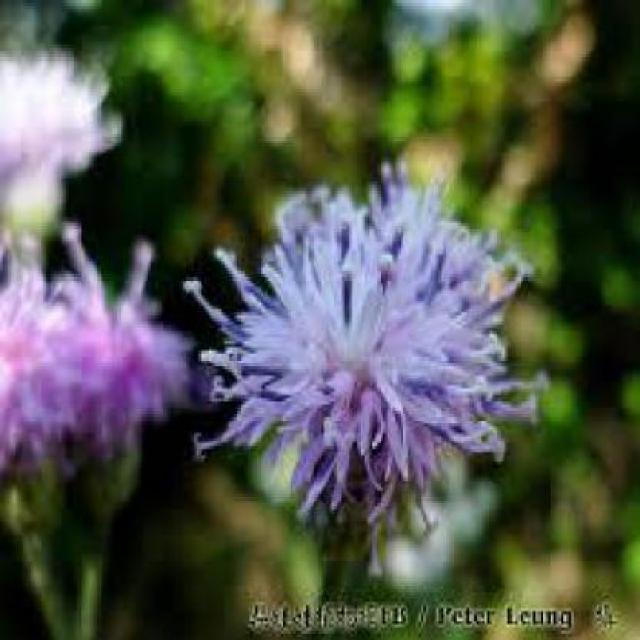flower: (175, 172, 543, 519)
